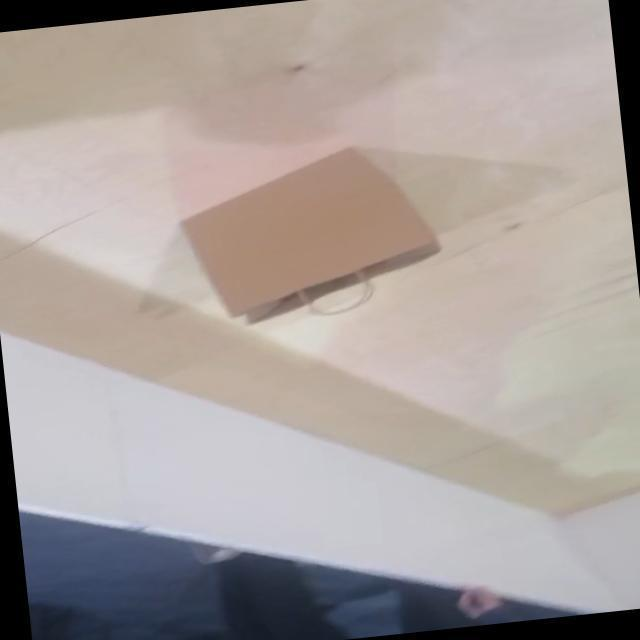Paper_Bag: (175, 138, 448, 332)
